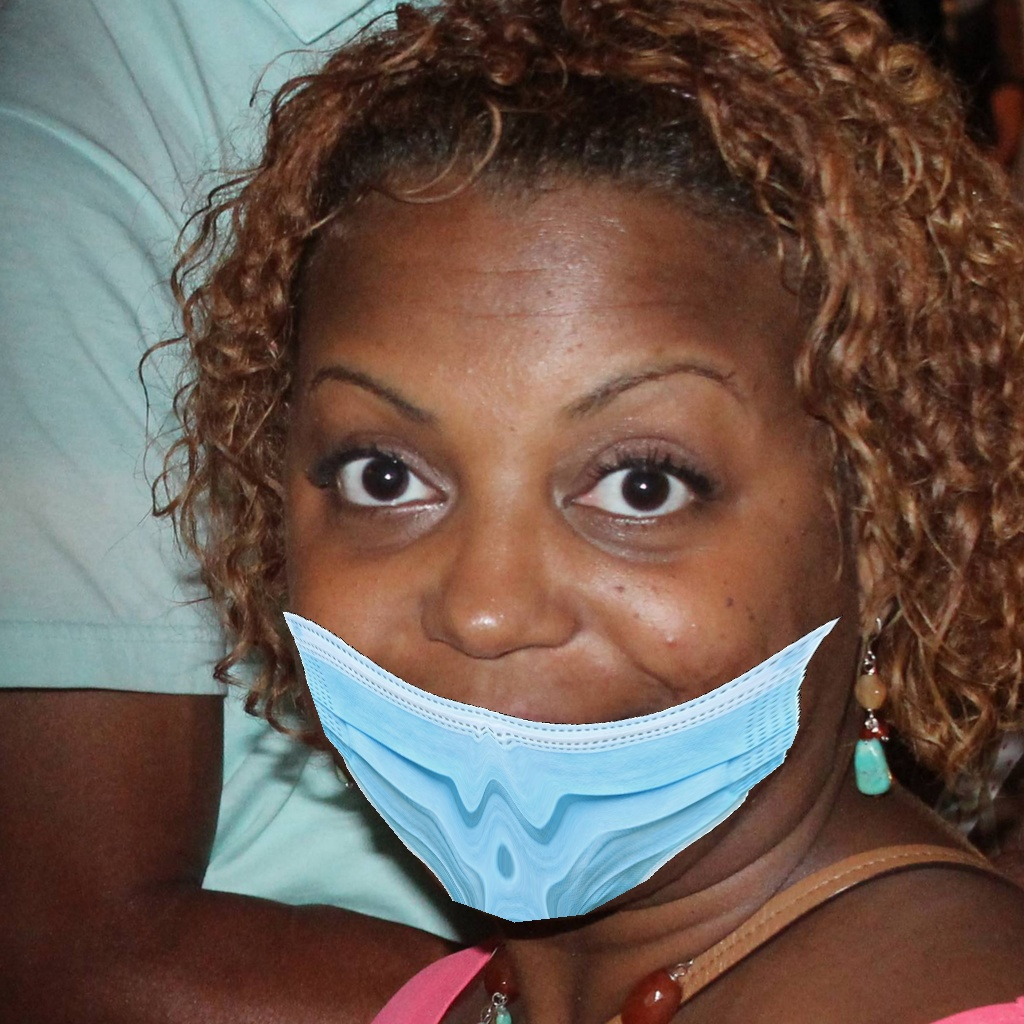mascarilla_mal_puesta: (194, 308, 902, 928)
